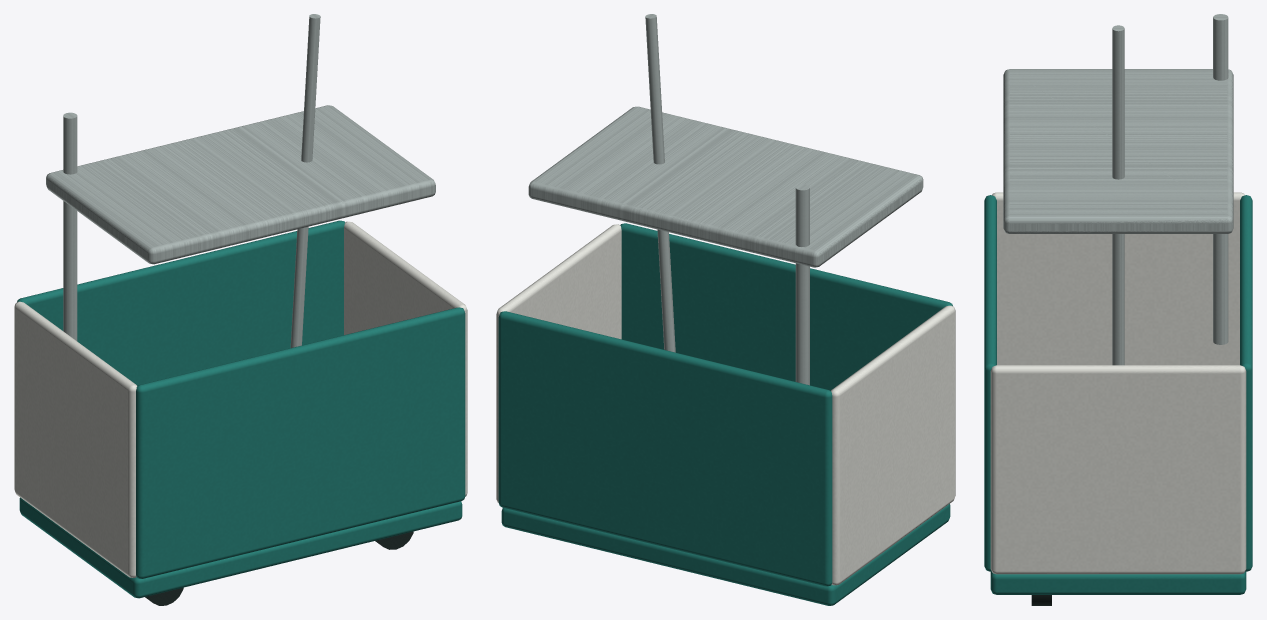
File: detail-cleaning-cart-0.glb
3 renders of one model, left to right at view 1: azimuth 30°, elevation 25°; view 2: azimuth 150°, elevation 25°; view 3: azimuth 270°, elevation 25°, orthographic. The views are drawn at different scales.
Visible parts, largest first — view 1: bucket_wall (×4), upper_tray, bucket_base, mop_handle, handle; view 2: bucket_wall (×4), upper_tray, bucket_base, mop_handle, handle; view 3: bucket_wall (×4), upper_tray, bucket_base, mop_handle, handle.
Part boxes in pixels (x1,y1,x2,y2): bucket_wall (×4): [14, 220, 467, 578]; upper_tray: [46, 105, 435, 264]; bucket_base: [19, 497, 462, 598]; mop_handle: [290, 14, 320, 347]; handle: [63, 112, 77, 340]; bucket_wall (×4): [496, 223, 955, 586]; upper_tray: [528, 106, 923, 267]; bucket_base: [501, 504, 950, 605]; mop_handle: [645, 14, 675, 352]; handle: [795, 184, 809, 385]; bucket_wall (×4): [984, 192, 1252, 574]; upper_tray: [1003, 69, 1233, 233]; bucket_base: [990, 571, 1246, 594]; mop_handle: [1112, 25, 1124, 365]; handle: [1213, 14, 1228, 344].
Bounding box in the file's own units: 0.825 × 1.2 × 0.525.
5 materials, 5 textured.
